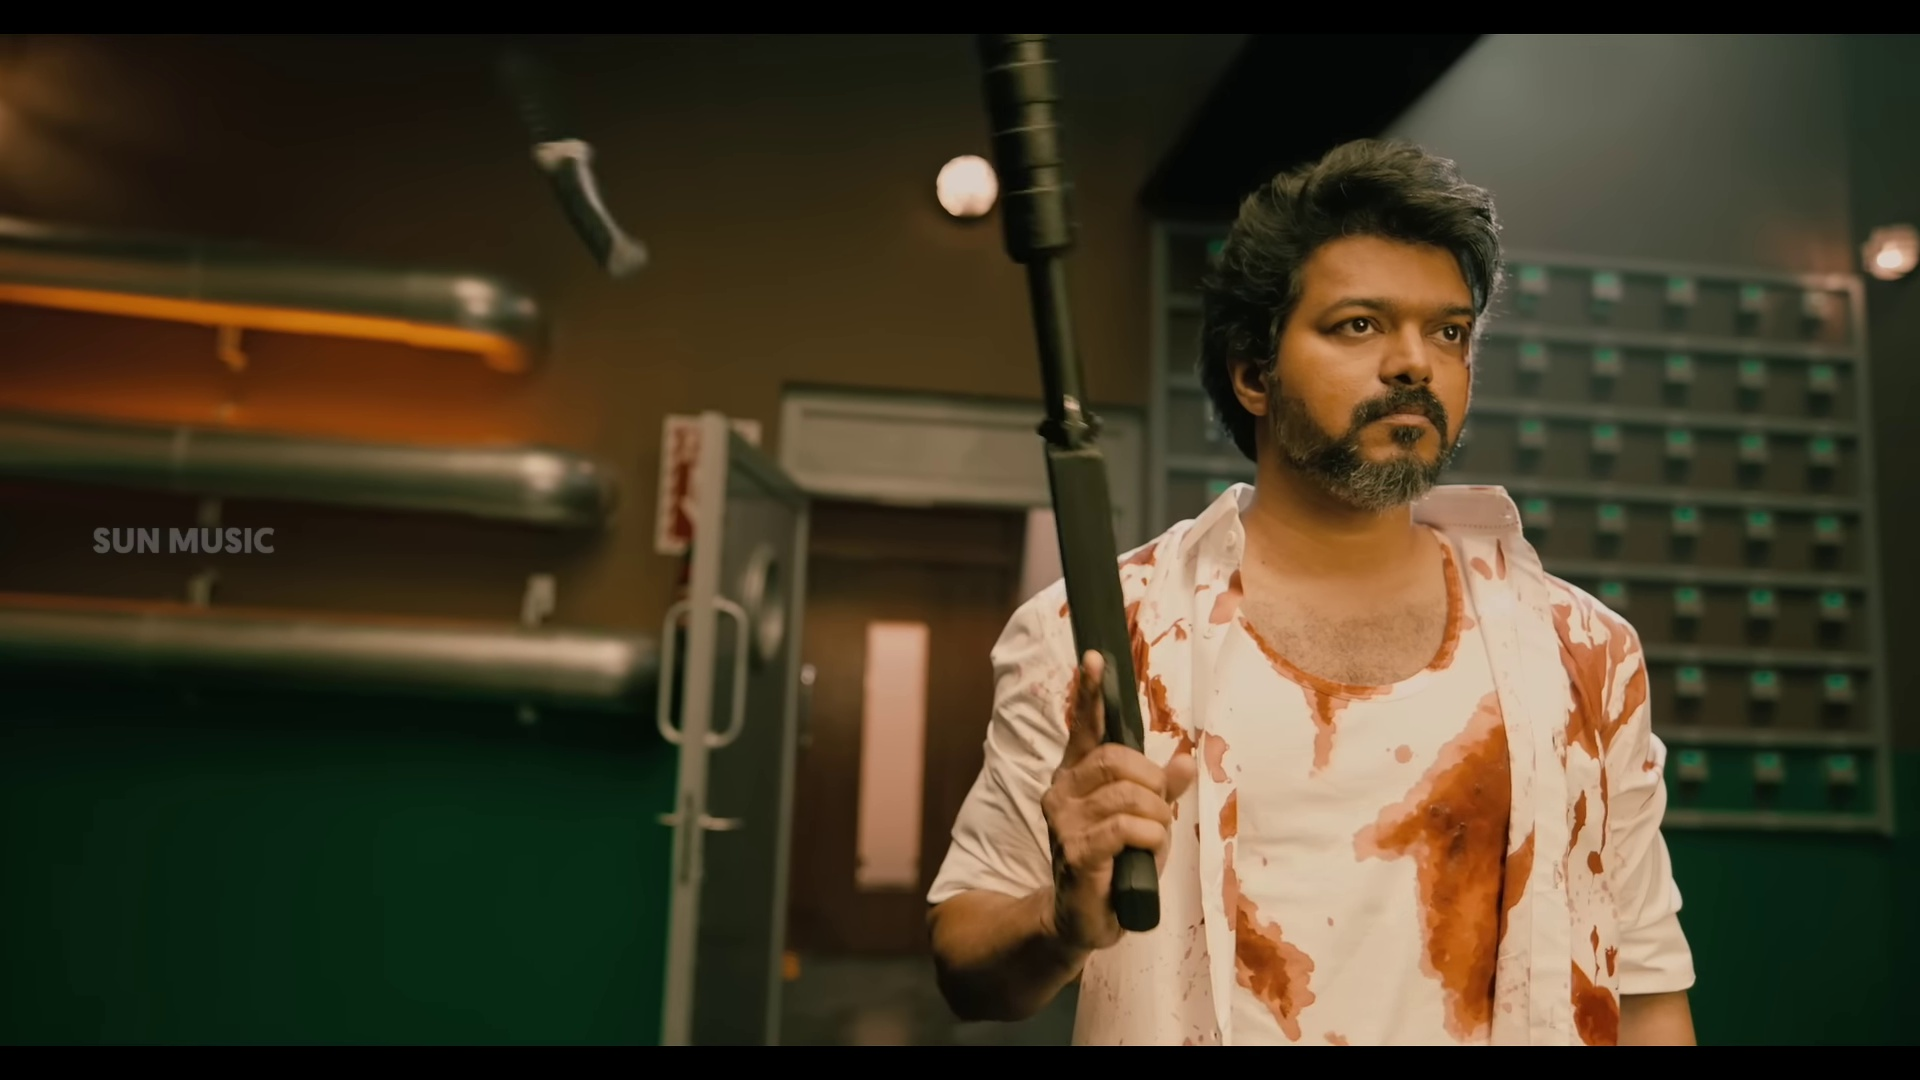gun: (977, 37, 1178, 947)
p_w_gun: (932, 28, 1697, 1047)
